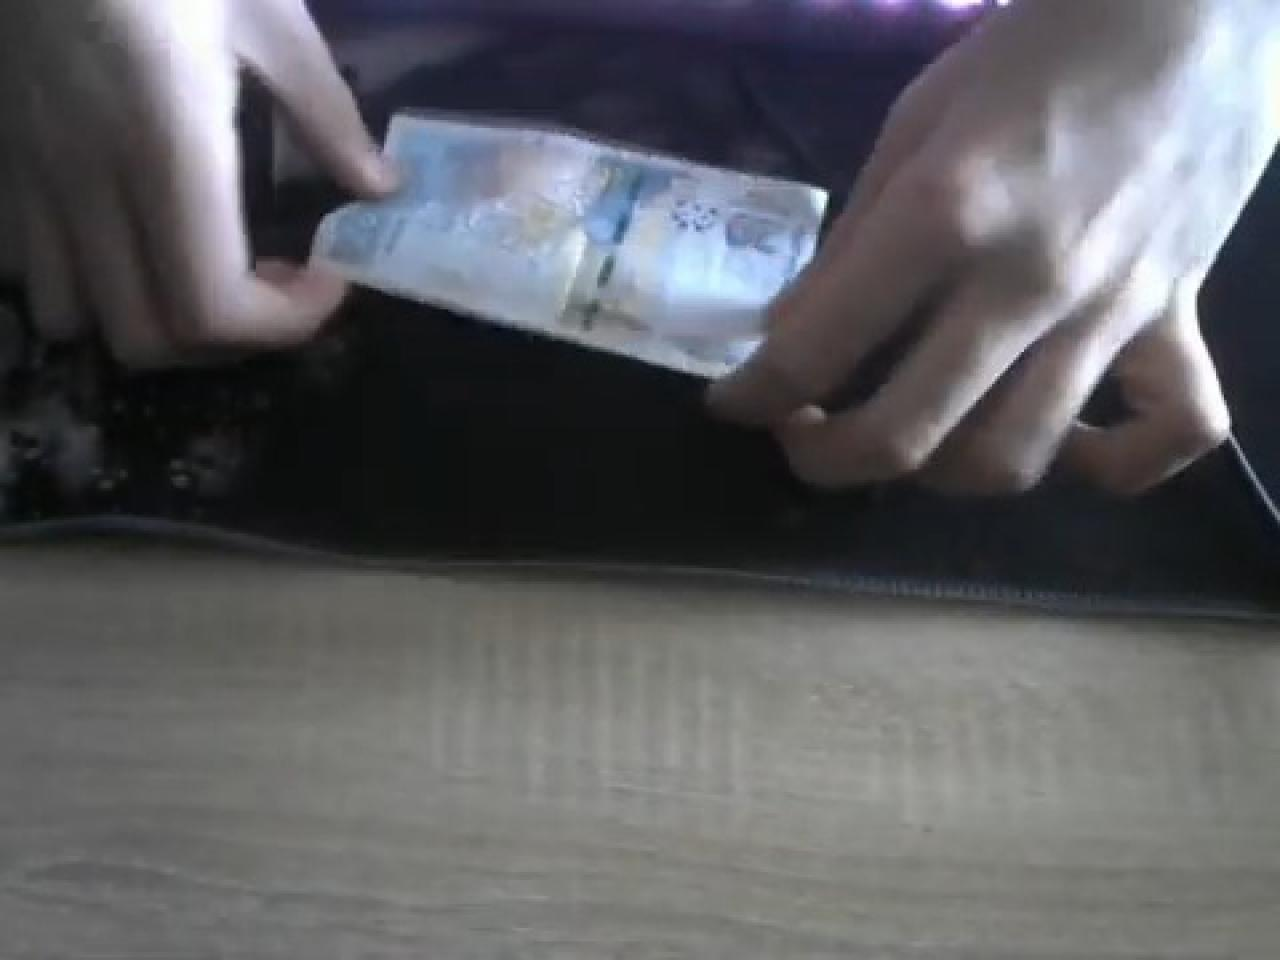20leva: (304, 109, 833, 384)
